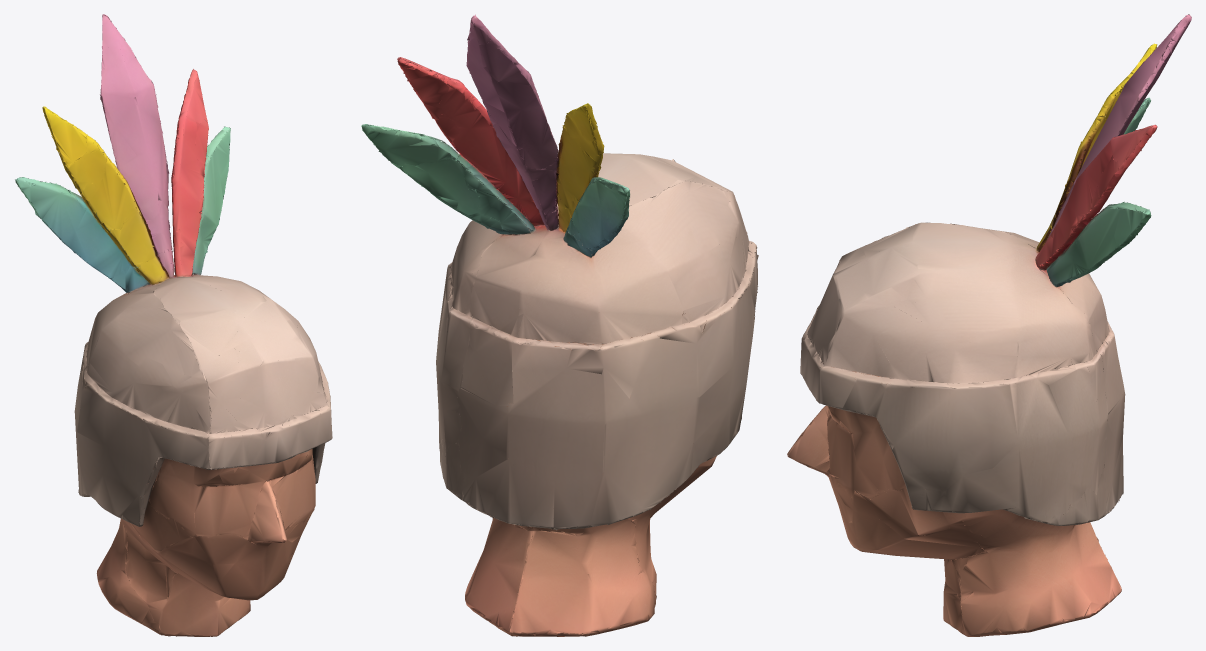
The model's file is cabeza.obj.
The picture shows the model from 3 angles, left to right: view 1: azimuth 30°, elevation 25°; view 2: azimuth 150°, elevation 25°; view 3: azimuth 270°, elevation 25°; orthographic projection. The views are drawn at different scales.
Parts seen in each view (by area): view 1: model; view 2: model; view 3: model.
Boxes of the visible parts, x1=… form: model: x1=15, y1=14, x2=332, y2=636; model: x1=361, y1=14, x2=758, y2=636; model: x1=787, y1=14, x2=1191, y2=636.
Size of the model in its own units: 0.157 by 0.3795 by 0.2295.
Materials: 1 (1 with a texture image).
